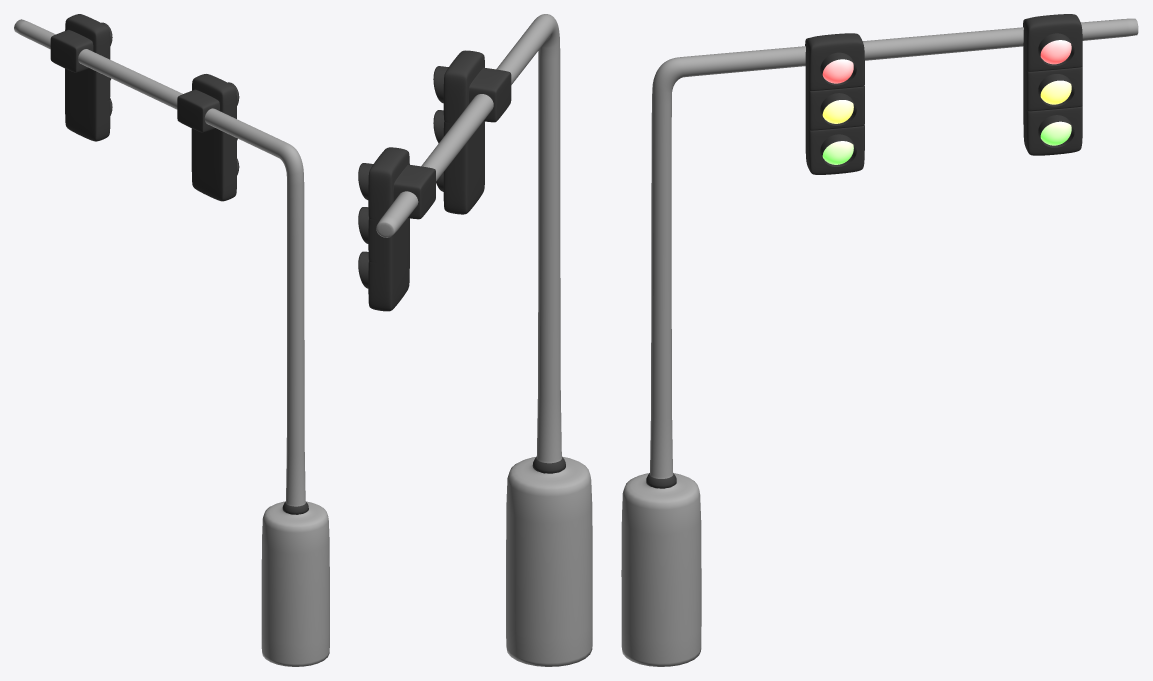
The model's file is street light 2.fbx.
3 views of the same model, side by side, from view 1: azimuth 30°, elevation 25°; view 2: azimuth 150°, elevation 25°; view 3: azimuth 270°, elevation 25° (orthographic). The views are drawn at different scales.
Parts seen in each view (by area): view 1: Object_6; view 2: Object_6; view 3: Object_6, Object_9, Object_8, Object_7.
Boxes of the visible parts, x1,y1,x2,y2 form: Object_6: (14, 14, 329, 666); Object_6: (358, 14, 592, 666); Object_6: (621, 14, 1138, 666); Object_9: (822, 40, 1071, 83); Object_8: (822, 80, 1071, 123); Object_7: (822, 121, 1071, 164).
Size of the model in its own units: 78.85 by 358 by 275.
Materials: 4 (1 with a texture image).
